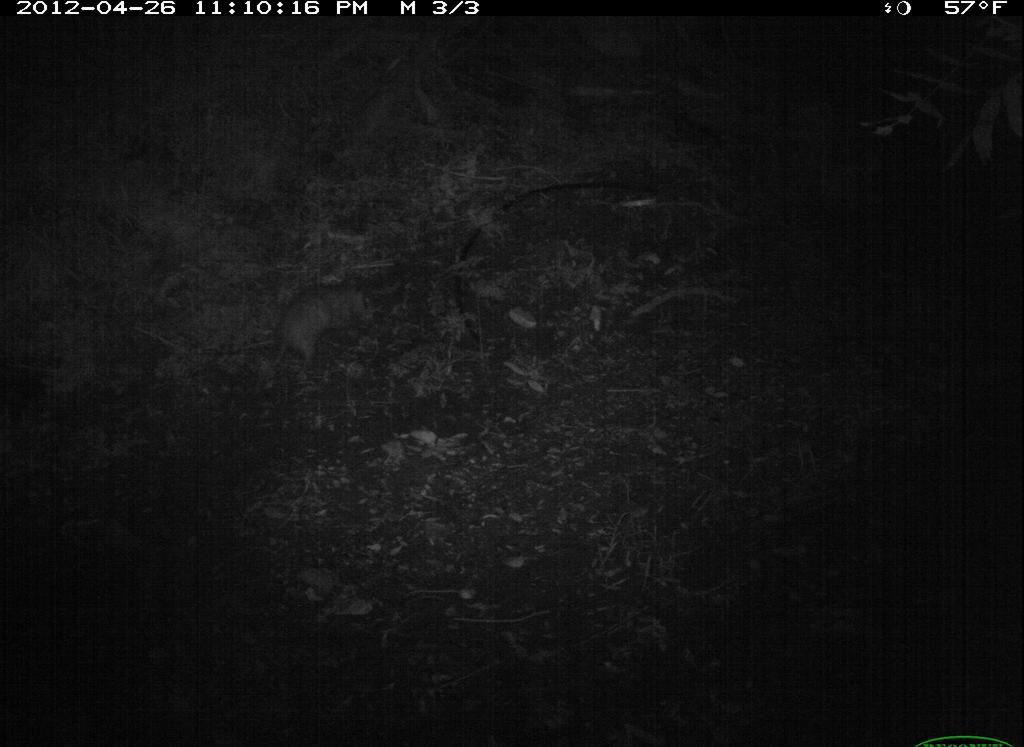opossum: (248, 274, 402, 396)
